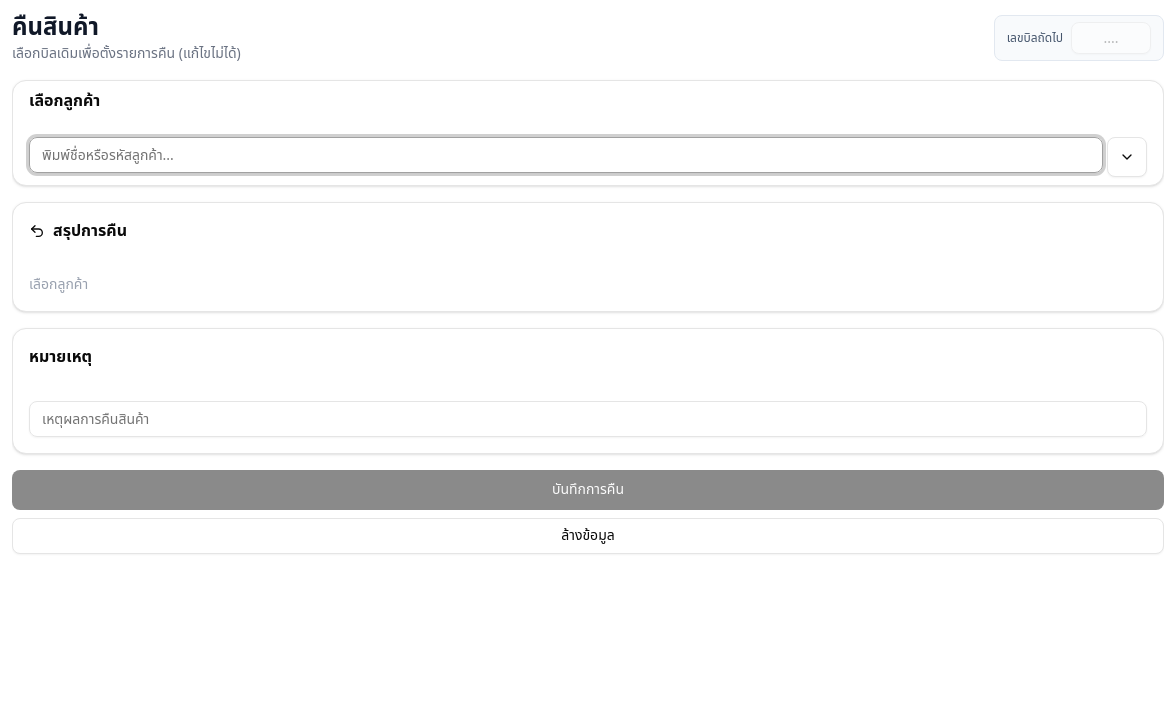
Test case: returns page › shows zero-value transfer_out bills in the returns picker
The image size is (1176, 709).
What coordinates should you click on to do the following:
click the button named "เปิดรายชื่อลูกค้า (เรียง ก-ฮ)"
I would click on:
 (1127, 157)
Its box is [1107,137,1147,177].
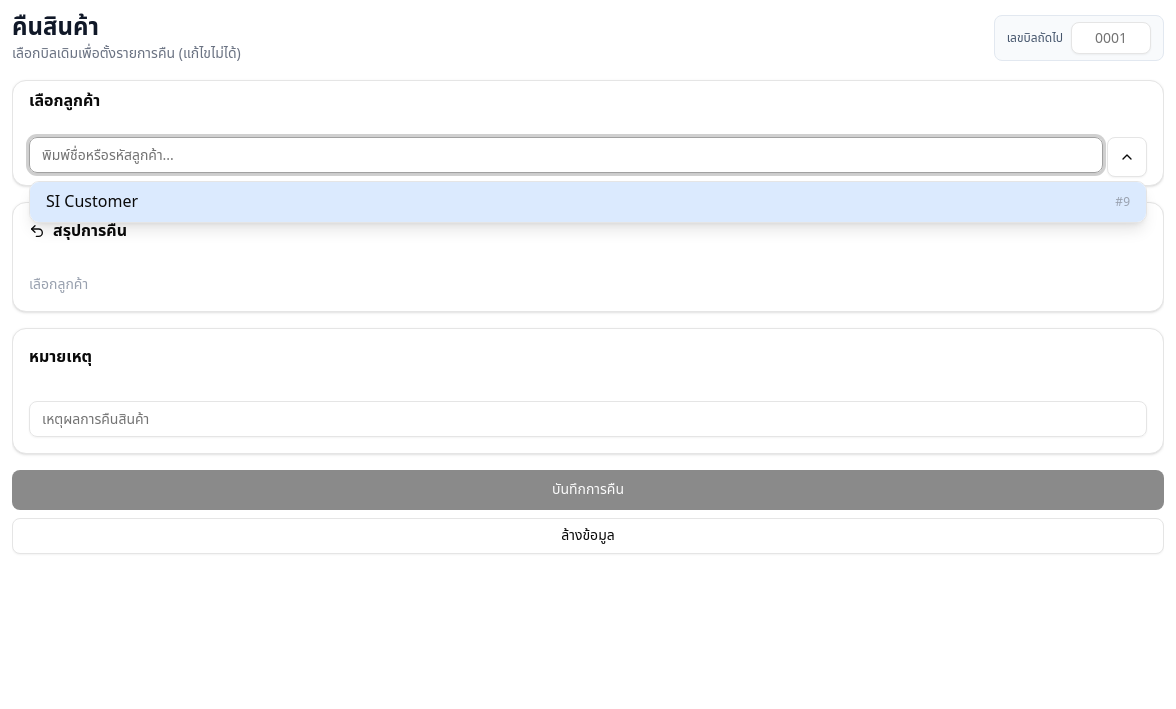
Result: the button "SI Customer #9" is shown
What coordinates should you click on to do the following:
click the button "SI Customer #9"
I would click on:
 (92, 202)
Its box is [30,182,1146,222].
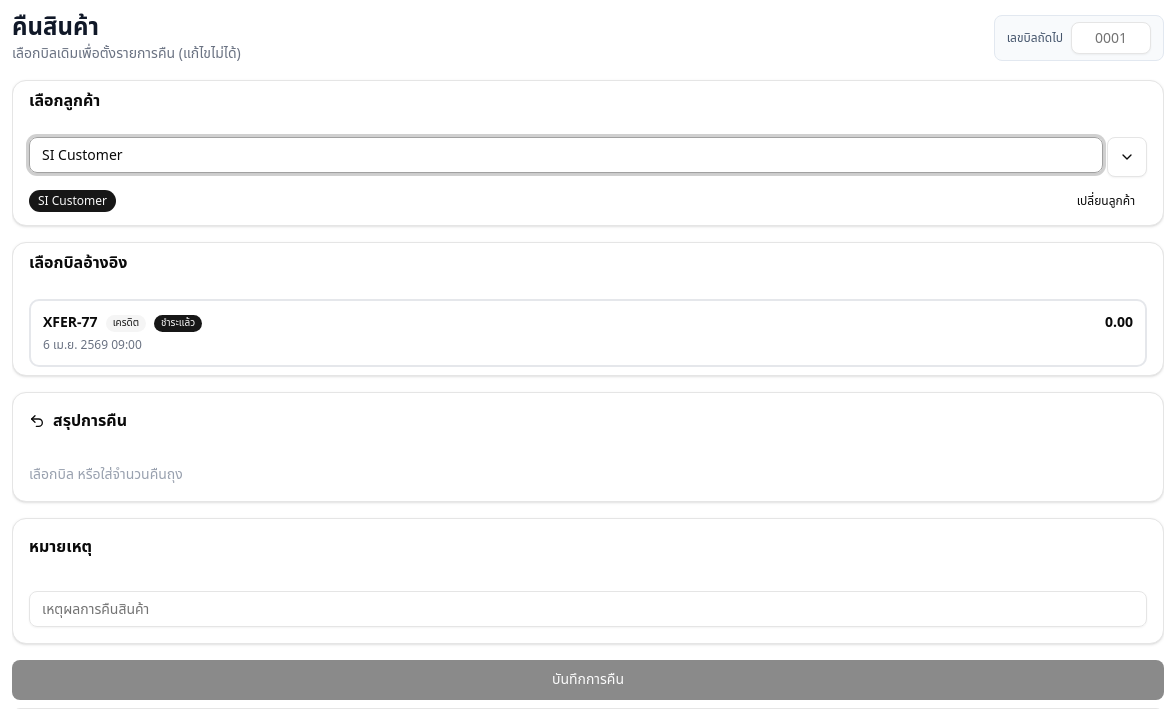
Result: the text "XFER-77" is shown at [43,313,98,333]
